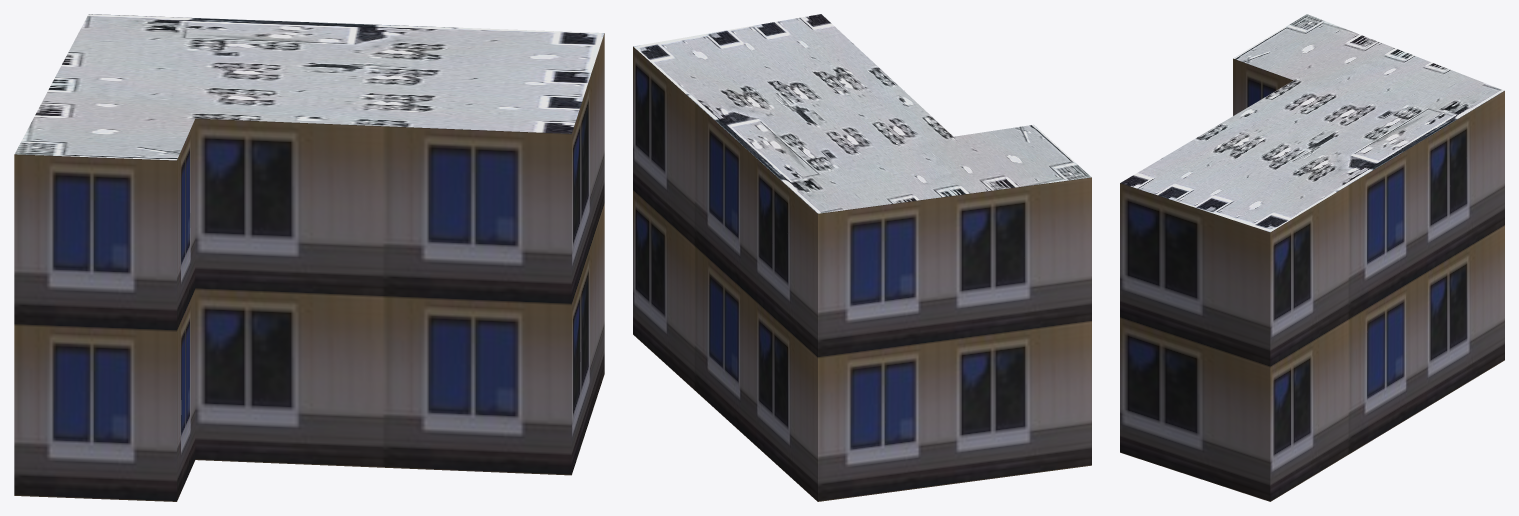
Rendered from ResTex__518.fbx.
The picture shows the model from 3 angles, left to right: view 1: azimuth 30°, elevation 25°; view 2: azimuth 150°, elevation 25°; view 3: azimuth 270°, elevation 25°; orthographic projection. The views are drawn at different scales.
Parts seen in each view (by area): view 1: CityEngineMaterial_5_m, CityEngineMaterial_4_m; view 2: CityEngineMaterial_5_m, CityEngineMaterial_4_m; view 3: CityEngineMaterial_5_m, CityEngineMaterial_4_m.
Boxes of the visible parts, x1,y1,x2,y2 form: CityEngineMaterial_5_m: (14, 33, 604, 501); CityEngineMaterial_4_m: (15, 14, 604, 160); CityEngineMaterial_5_m: (633, 46, 1091, 501); CityEngineMaterial_4_m: (633, 14, 1091, 213); CityEngineMaterial_5_m: (1120, 58, 1504, 501); CityEngineMaterial_4_m: (1120, 14, 1504, 232).
Bounding box in the file's own units: 10.42 × 6 × 7.76.
Materials: 2 (2 with a texture image).
